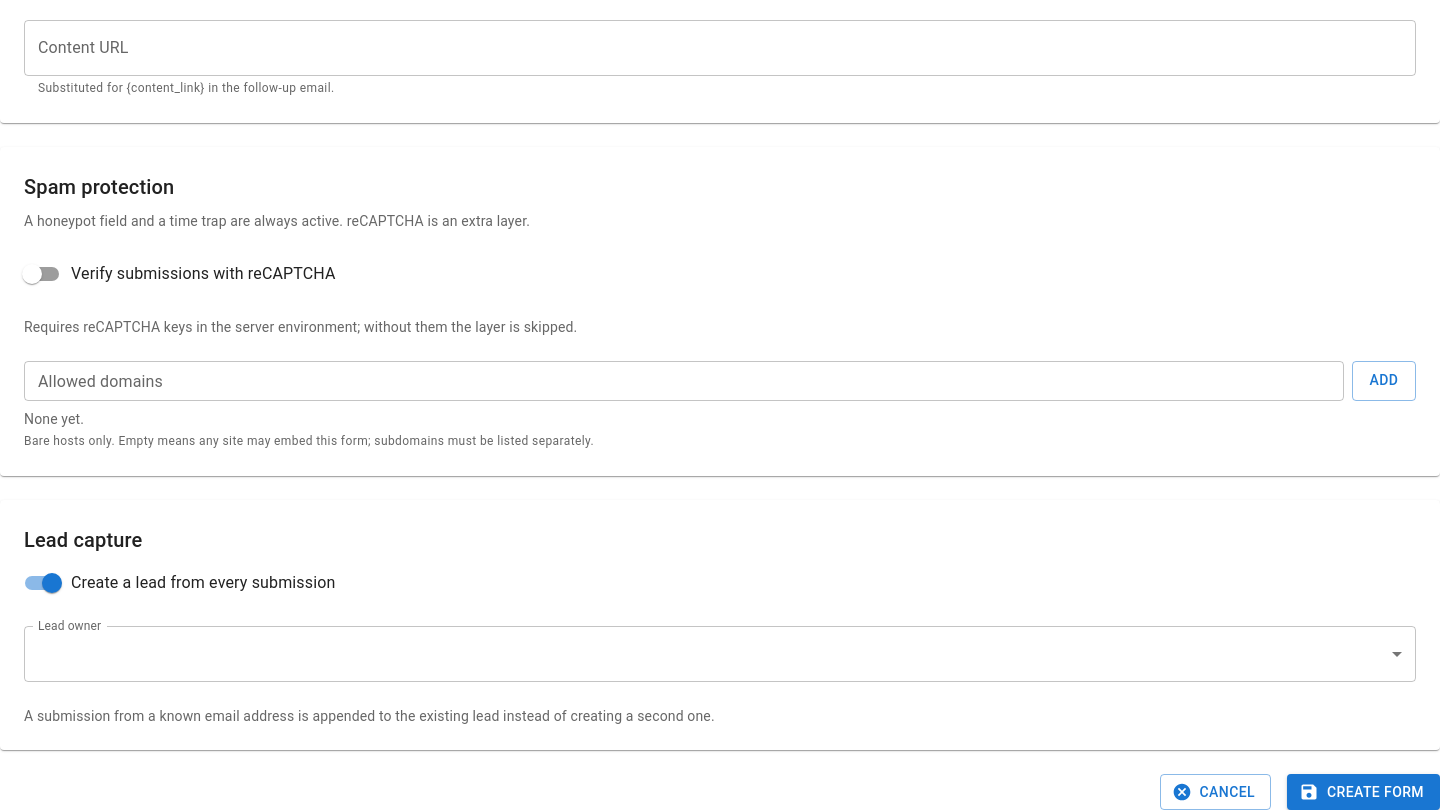
FormBuilder › lets an admin pick the lead owner from the user list
(page scrolled)
Press the mouse on the dropdown named "Lead owner" at (720, 654), box 24,626 -> 1416,682
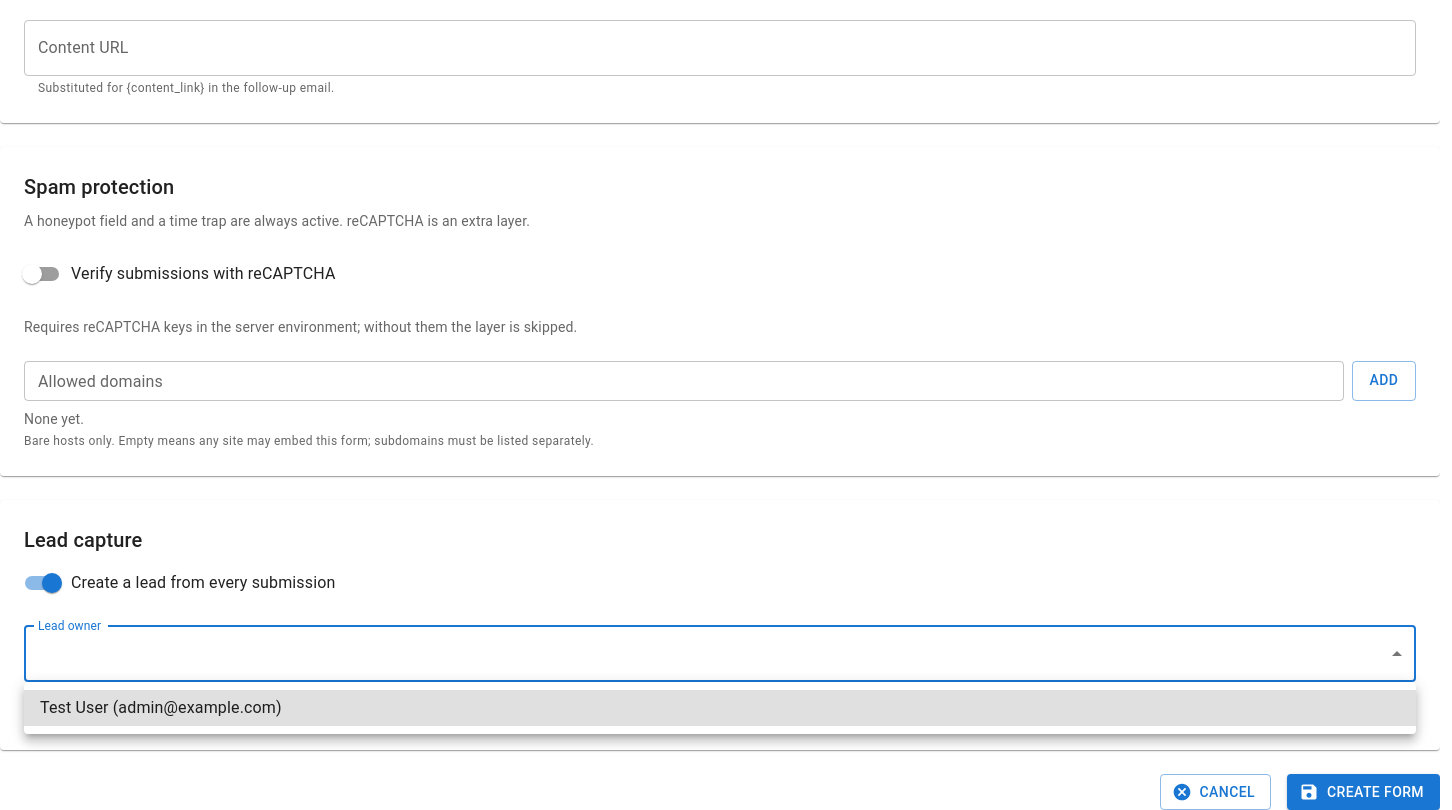
Now the option "Test User (admin@example.com)" is shown, box 24,690 -> 1416,726
Now the list is shown, box 24,682 -> 1416,734
